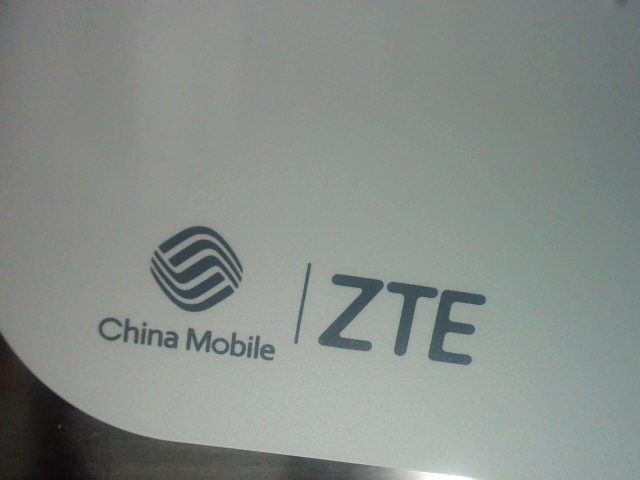AL_ZTEChinaMobile: (95, 220, 514, 374)
